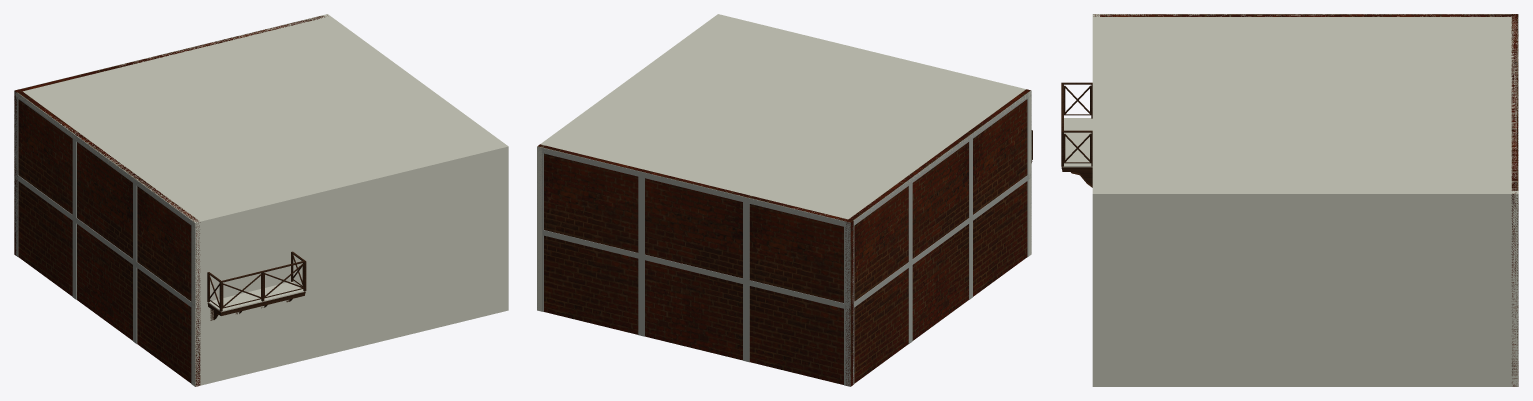
Rendered from building.glb.
3 views of the same model, side by side, from view 1: azimuth 30°, elevation 25°; view 2: azimuth 150°, elevation 25°; view 3: azimuth 270°, elevation 25° (orthographic). The views are drawn at different scales.
Parts seen in each view (by area): view 1: roof/house:0/roof_slab#0001, house:0/edge0/z0/house:0/edge0/z0/wall_0_0, house:0/edge3/z0/house:0/edge3/z0/wall_0_0, house:0/edge2/z0/house:0/edge2/z0/wall_0_0, house:0/edge3/z0/house:0/edge3/z0/beam_0_0, house:0/edge3/z0/house:0/edge3/z0/beam_1_0, house:0/edge1/z0/house:0/edge1/z0/wall_0_0, balcony/sample/balcony_platform#0001, balcony/sample/balcony_fascia#0001; view 2: roof/house:0/roof_slab#0001, house:0/edge2/z0/house:0/edge2/z0/wall_0_0, house:0/edge3/z0/house:0/edge3/z0/wall_0_0, house:0/edge1/z0/house:0/edge1/z0/wall_0_0, house:0/edge2/z0/house:0/edge2/z0/beam_1_0, house:0/edge2/z0/house:0/edge2/z0/beam_0_0, house:0/edge0/z0/house:0/edge0/z0/wall_0_0, house:0/edge3/z0/house:0/edge3/z0/beam_0_0, house:0/edge3/z0/house:0/edge3/z0/beam_1_0, house:0/edge2/z0/house:0/edge2/z0/column_2_0, house:0/edge2/z0/house:0/edge2/z0/column_2_1, house:0/edge2/z0/house:0/edge2/z0/column_3_0 (+3 smaller); view 3: house:0/edge1/z0/house:0/edge1/z0/wall_0_0, roof/house:0/roof_slab#0001, house:0/edge0/z0/house:0/edge0/z0/wall_0_0, house:0/edge2/z0/house:0/edge2/z0/wall_0_0, house:0/edge3/z0/house:0/edge3/z0/wall_0_0, balcony/sample/balcony_platform#0001.
Boxes of the visible parts, left/top/right/bottom form: roof/house:0/roof_slab#0001: left=15, top=14, right=506, bottom=225; house:0/edge0/z0/house:0/edge0/z0/wall_0_0: left=192, top=144, right=508, bottom=386; house:0/edge3/z0/house:0/edge3/z0/wall_0_0: left=17, top=89, right=200, bottom=386; house:0/edge2/z0/house:0/edge2/z0/wall_0_0: left=14, top=15, right=327, bottom=255; house:0/edge3/z0/house:0/edge3/z0/beam_0_0: left=14, top=173, right=195, bottom=309; house:0/edge3/z0/house:0/edge3/z0/beam_1_0: left=14, top=92, right=195, bottom=227; house:0/edge1/z0/house:0/edge1/z0/wall_0_0: left=323, top=14, right=508, bottom=311; balcony/sample/balcony_platform#0001: left=208, top=281, right=304, bottom=312; balcony/sample/balcony_fascia#0001: left=207, top=291, right=305, bottom=315; roof/house:0/roof_slab#0001: left=540, top=14, right=1031, bottom=223; house:0/edge2/z0/house:0/edge2/z0/wall_0_0: left=538, top=144, right=853, bottom=386; house:0/edge3/z0/house:0/edge3/z0/wall_0_0: left=845, top=89, right=1030, bottom=385; house:0/edge1/z0/house:0/edge1/z0/wall_0_0: left=537, top=15, right=722, bottom=311; house:0/edge2/z0/house:0/edge2/z0/beam_1_0: left=538, top=147, right=850, bottom=228; house:0/edge2/z0/house:0/edge2/z0/beam_0_0: left=542, top=230, right=850, bottom=309; house:0/edge0/z0/house:0/edge0/z0/wall_0_0: left=717, top=14, right=1031, bottom=256; house:0/edge3/z0/house:0/edge3/z0/beam_0_0: left=850, top=172, right=1031, bottom=309; house:0/edge3/z0/house:0/edge3/z0/beam_1_0: left=850, top=90, right=1031, bottom=227; house:0/edge2/z0/house:0/edge2/z0/column_2_0: left=638, top=176, right=644, bottom=254; house:0/edge2/z0/house:0/edge2/z0/column_2_1: left=638, top=258, right=644, bottom=336; house:0/edge2/z0/house:0/edge2/z0/column_3_0: left=743, top=202, right=749, bottom=280; house:0/edge1/z0/house:0/edge1/z0/wall_0_0: left=1092, top=191, right=1518, bottom=386; roof/house:0/roof_slab#0001: left=1092, top=14, right=1518, bottom=198; house:0/edge0/z0/house:0/edge0/z0/wall_0_0: left=1092, top=14, right=1099, bottom=386; house:0/edge2/z0/house:0/edge2/z0/wall_0_0: left=1511, top=14, right=1518, bottom=386; house:0/edge3/z0/house:0/edge3/z0/wall_0_0: left=1093, top=14, right=1517, bottom=16; balcony/sample/balcony_platform#0001: left=1063, top=118, right=1092, bottom=167.
Bounding box in the file's own units: 12 × 6 × 12.89.
4 materials, 2 textured.
